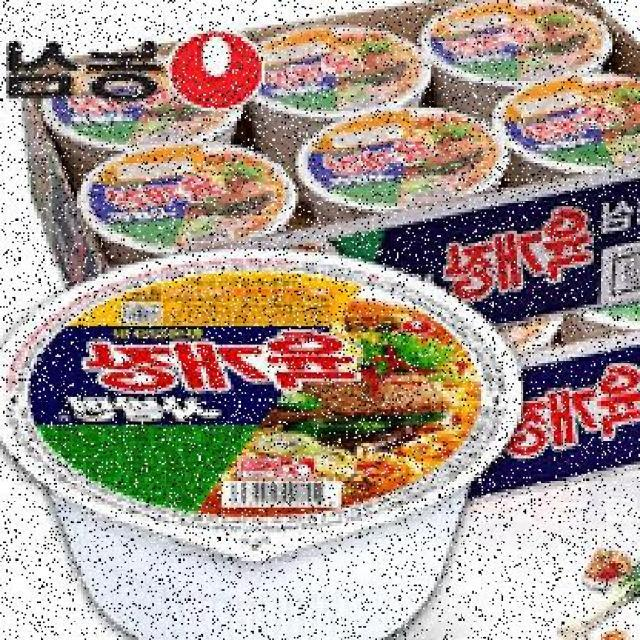Miscellaneous: (0, 252, 529, 640), (68, 133, 304, 254), (288, 102, 507, 232), (36, 43, 255, 152), (236, 19, 427, 138), (416, 0, 616, 108), (489, 70, 640, 206)
